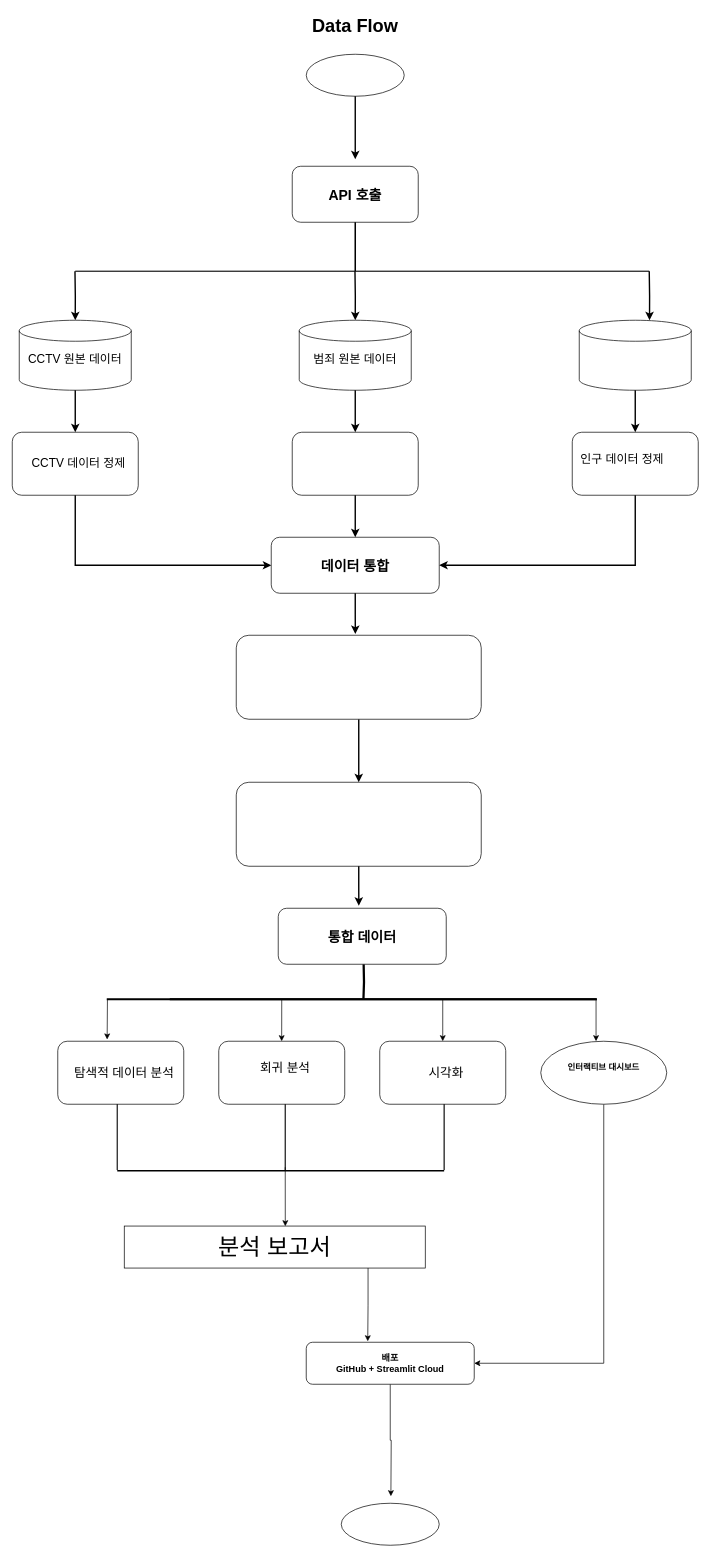
Image size: 711x1558. Some labels were removed from this diagram. Each missing label, with the centre of its shape:
"4사분면 분류 (CCTV 밀도 × 범죄율 기준 )" belongs at point 358,824.
"공개 URL 생성" belongs at point 390,1524.
"범죄 데이터 정제" belongs at point 355,463.
"시작" belongs at point 355,75.
"인구 원본 데이터" belongs at point 635,355.
"파생 변수 생성 (인구 대비 CCTV·범죄율 정규화)" belongs at point 358,677.
